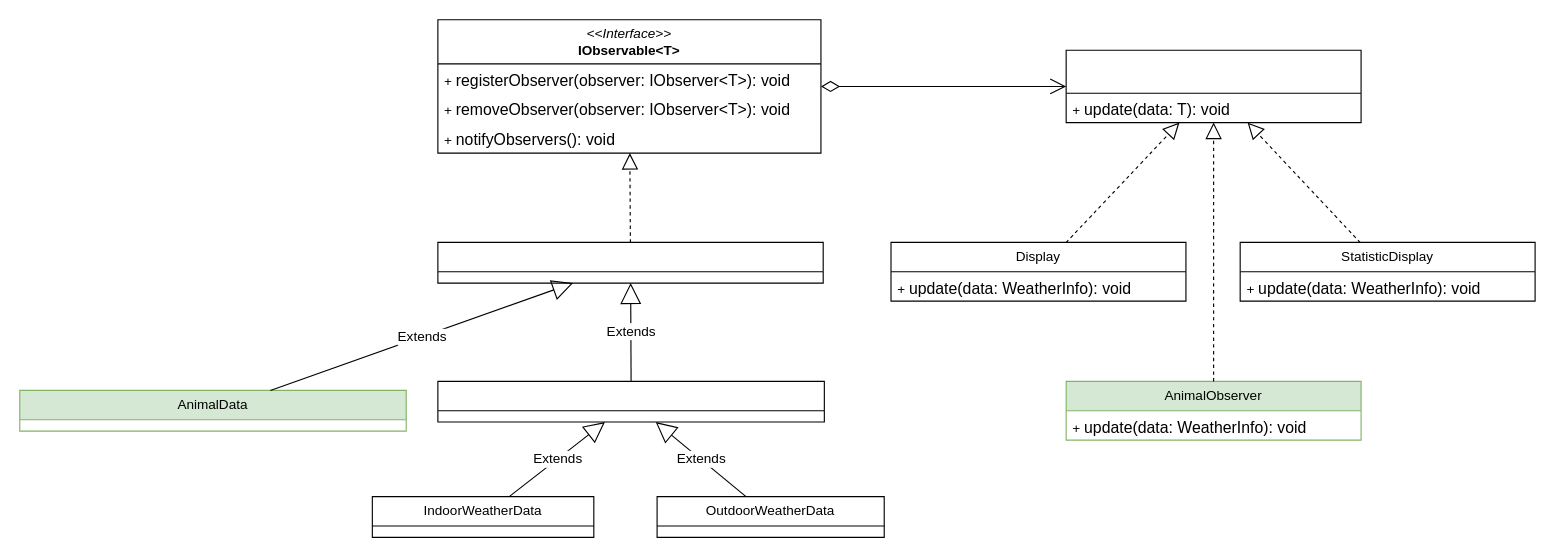
This 1555x557 diagram has some shape labels left out. Each missing label, with the box of its shape:
<<Interface>> IObserver<T>: (1065, 49, 1361, 123)
Observable<T>: (437, 241, 823, 283)
WeatherData: (437, 380, 824, 422)
